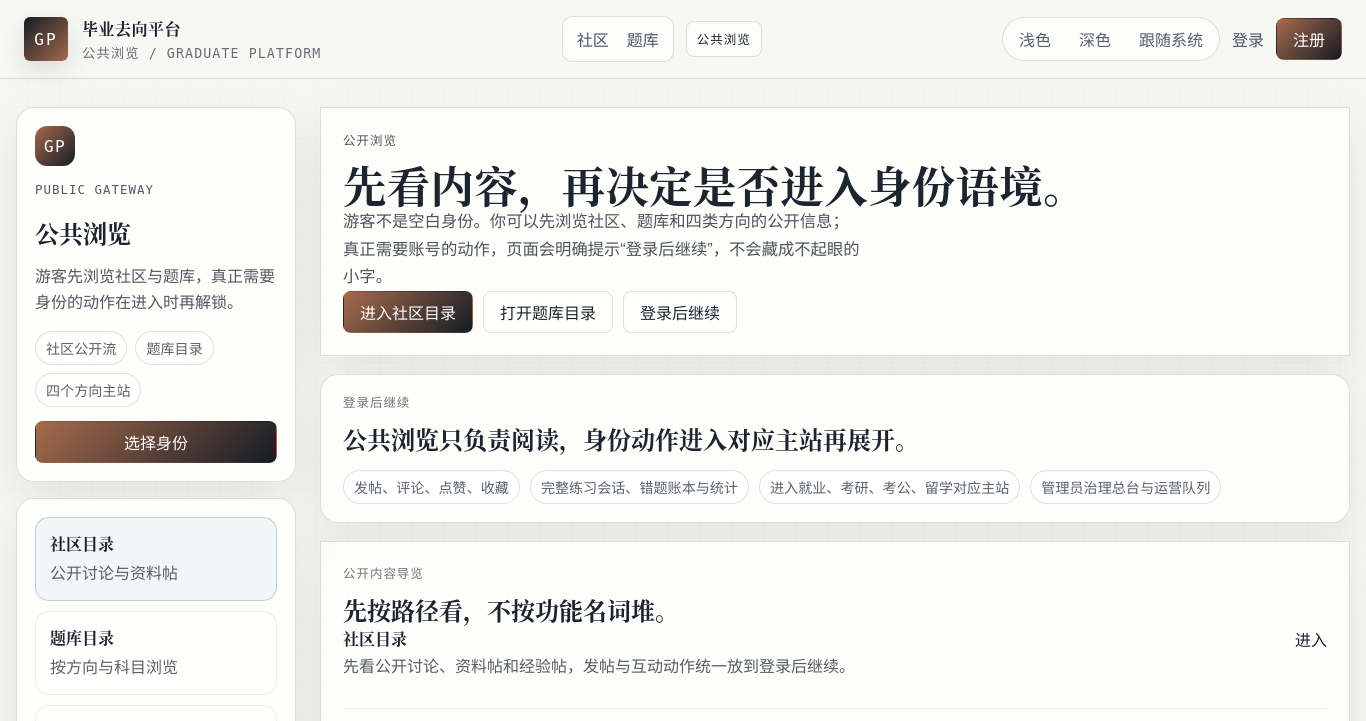
frontendv1 role auth dialog flow › lands on the admin station after choosing 管理员 from the auth dialog
Click the link "登录后继续" at (680, 312), box x1=623 y1=291 x2=737 y2=333
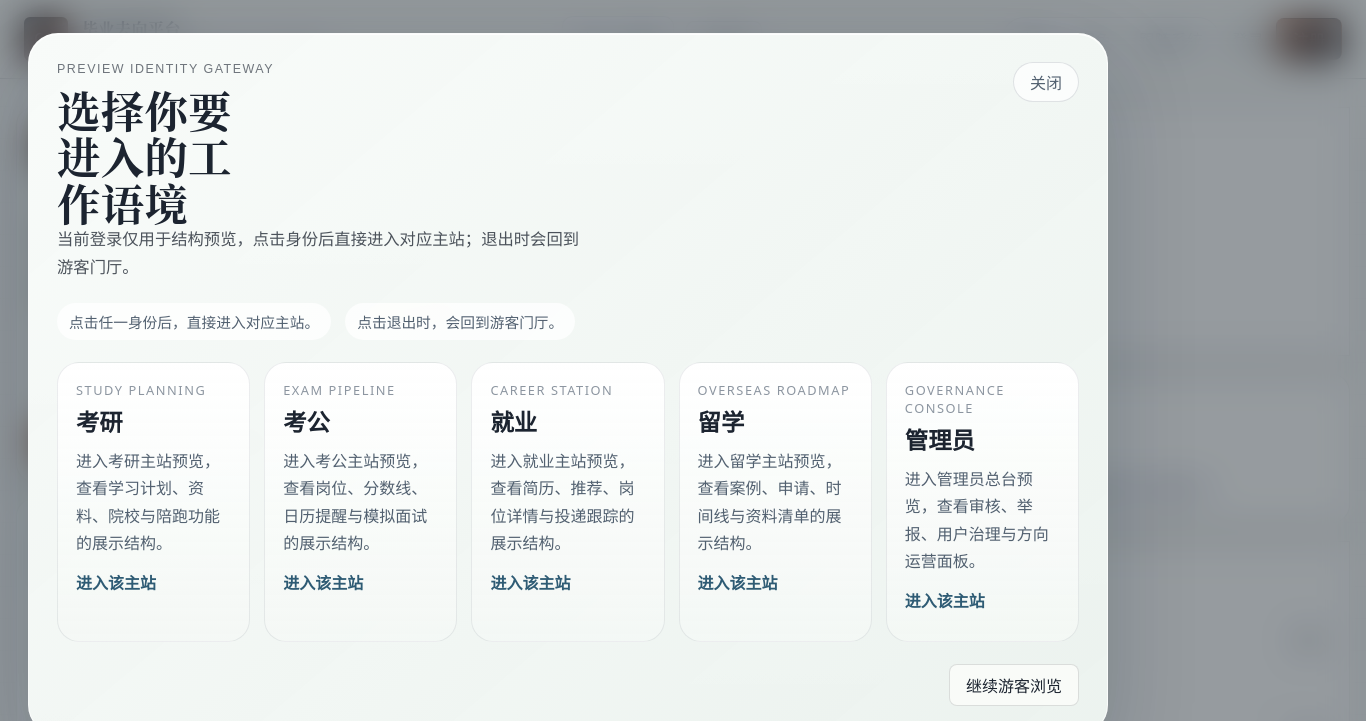
Click the button "管理员" at (982, 502), box x1=886 y1=362 x2=1079 y2=642
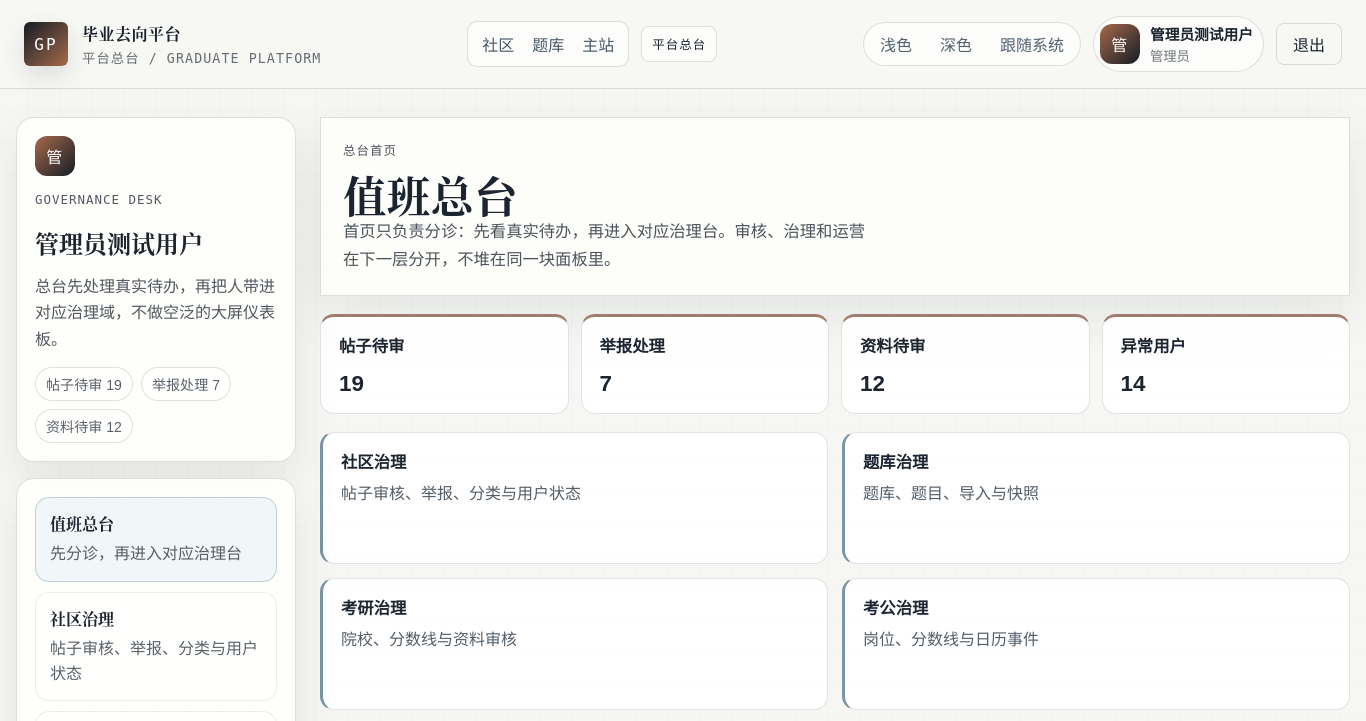
Expected: the heading "值班总台" is shown, x1=343 y1=163 x2=518 y2=225
